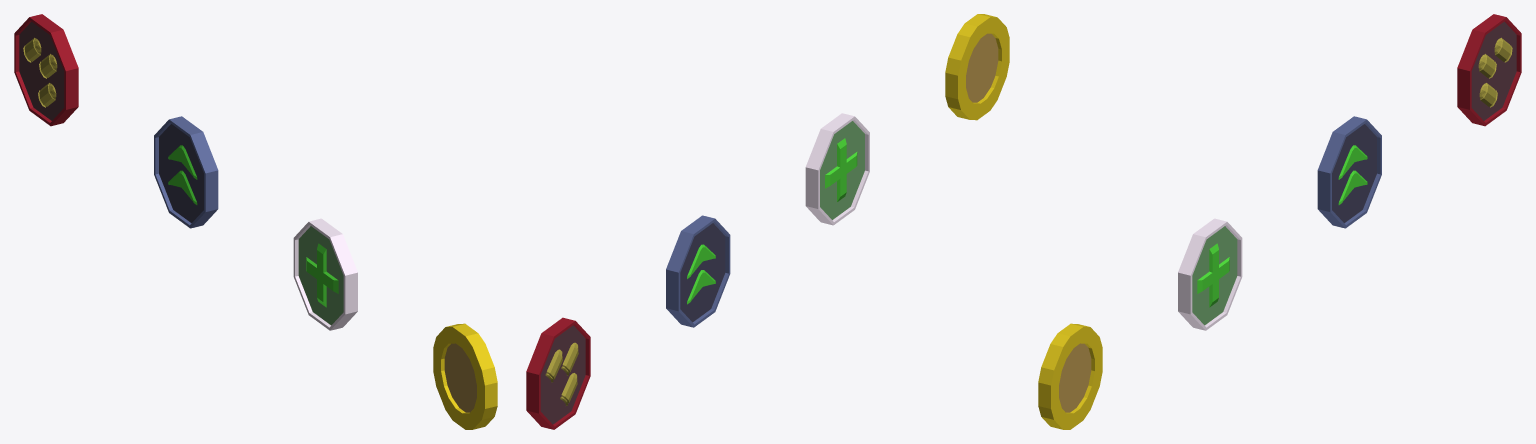
File: bonuses.fbx
3 renders of one model, left to right at view 1: azimuth 30°, elevation 25°; view 2: azimuth 150°, elevation 25°; view 3: azimuth 330°, elevation 25°, orthographic.
Visible parts, largest first — view 1: AmmoLoad, SpeedBoost, HealBoost, Money; view 2: AmmoLoad, SpeedBoost, HealBoost, Money; view 3: AmmoLoad, SpeedBoost, HealBoost, Money.
Boxes of the visible parts, left/top/right/bottom form: AmmoLoad: left=14, top=14, right=78, bottom=126; SpeedBoost: left=154, top=116, right=218, bottom=228; HealBoost: left=293, top=218, right=357, bottom=330; Money: left=433, top=323, right=497, bottom=429; AmmoLoad: left=526, top=317, right=590, bottom=429; SpeedBoost: left=666, top=215, right=730, bottom=327; HealBoost: left=805, top=113, right=869, bottom=225; Money: left=945, top=14, right=1009, bottom=120; AmmoLoad: left=1457, top=14, right=1521, bottom=126; SpeedBoost: left=1317, top=116, right=1381, bottom=228; HealBoost: left=1178, top=218, right=1242, bottom=330; Money: left=1038, top=323, right=1102, bottom=429.
Bounding box in the file's own units: 6.85 × 36.96 × 337.
